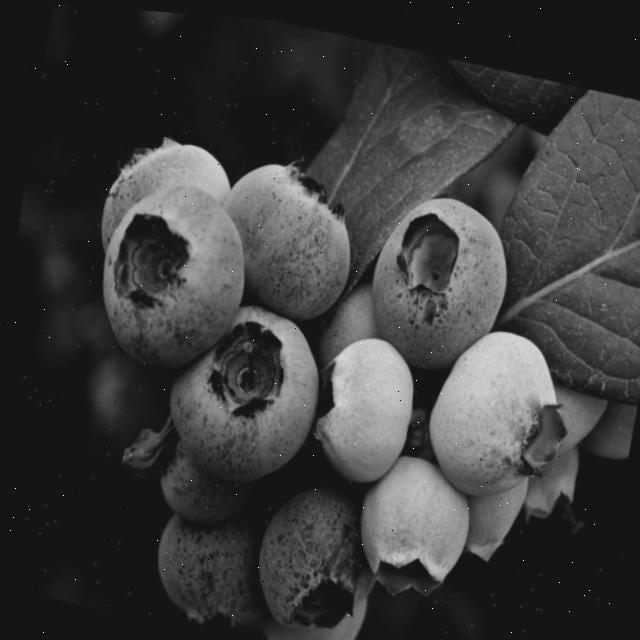RipeBlueBerry: (81, 156, 264, 388), (151, 275, 339, 499), (140, 479, 282, 636)
Semi-RipeBlueBerry: (352, 166, 524, 383), (202, 132, 371, 328), (241, 464, 391, 640)
UnripeBlueBerry: (410, 300, 580, 511), (342, 436, 482, 605), (300, 313, 428, 491)
